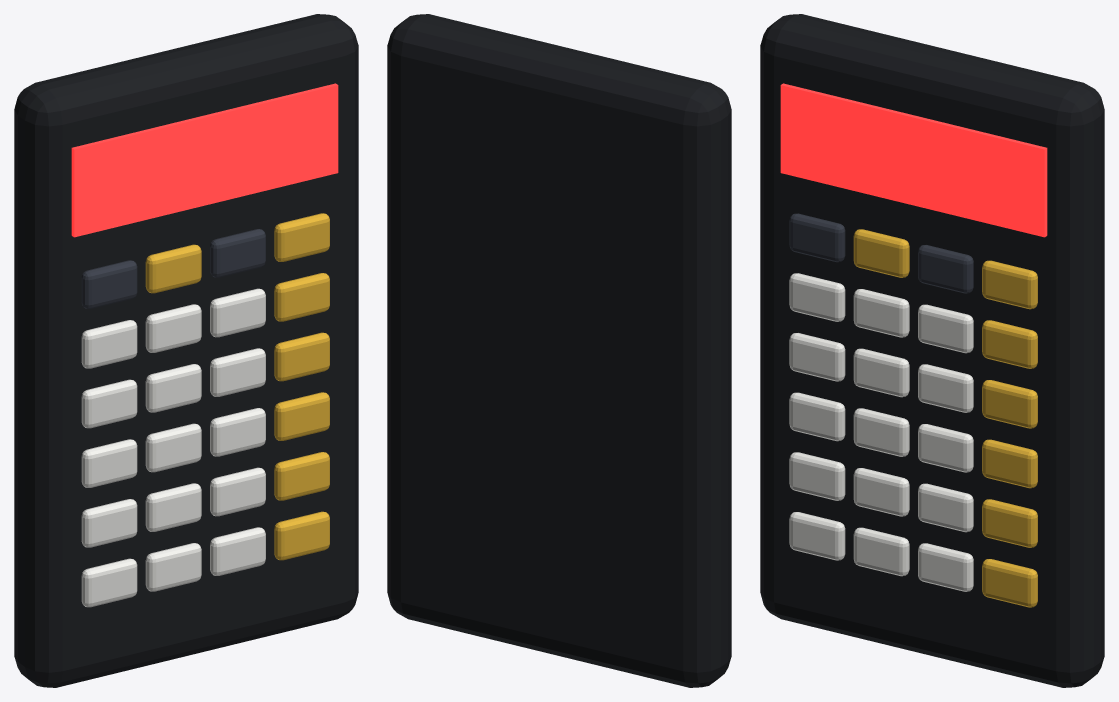
The model's file is calculadora.glb.
3 views of the same model, side by side, from view 1: azimuth 30°, elevation 25°; view 2: azimuth 150°, elevation 25°; view 3: azimuth 330°, elevation 25° (orthographic).
Parts seen in each view (by area): view 1: Cube, pantalla, Cube.002, Cube.014, Cube.017, Cube.005, Cube.009, Cube.021, Cube.001, Cube.010, Cube.013, Cube.006 (+14 smaller); view 2: Cube; view 3: Cube, pantalla, Cube.001, Cube.002, Cube.005, Cube.010, Cube.013, Cube.014, Cube.017, Cube.022, Cube.009, Cube.021 (+14 smaller).
Boxes of the visible parts, box(x1,y1,x2,y2) form: Cube: box(14, 14, 358, 687); pantalla: box(71, 83, 338, 237); Cube.002: box(145, 244, 201, 293); Cube.014: box(145, 423, 201, 472); Cube.017: box(81, 499, 137, 547); Cube.005: box(81, 320, 137, 368); Cube.009: box(81, 379, 137, 428); Cube.021: box(81, 558, 137, 607); Cube.001: box(81, 260, 137, 308); Cube.010: box(145, 364, 201, 412); Cube.013: box(81, 439, 137, 487); Cube.006: box(145, 304, 201, 352); Cube: box(387, 14, 731, 687); Cube: box(760, 14, 1104, 687); pantalla: box(780, 83, 1047, 237); Cube.001: box(789, 213, 845, 262); Cube.002: box(853, 229, 909, 277); Cube.005: box(789, 273, 845, 321); Cube.010: box(853, 348, 909, 397); Cube.013: box(789, 392, 845, 441); Cube.014: box(853, 408, 909, 456); Cube.017: box(789, 452, 845, 500); Cube.022: box(853, 527, 909, 576); Cube.009: box(789, 333, 845, 381); Cube.021: box(789, 512, 845, 560).
Size of the model in its own units: 0.55 by 0.95 by 0.115.
